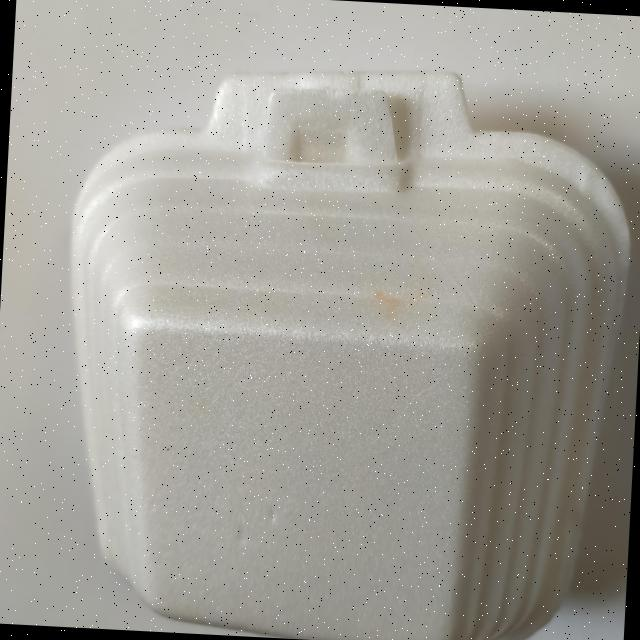styrofoam: (47, 50, 640, 640)
